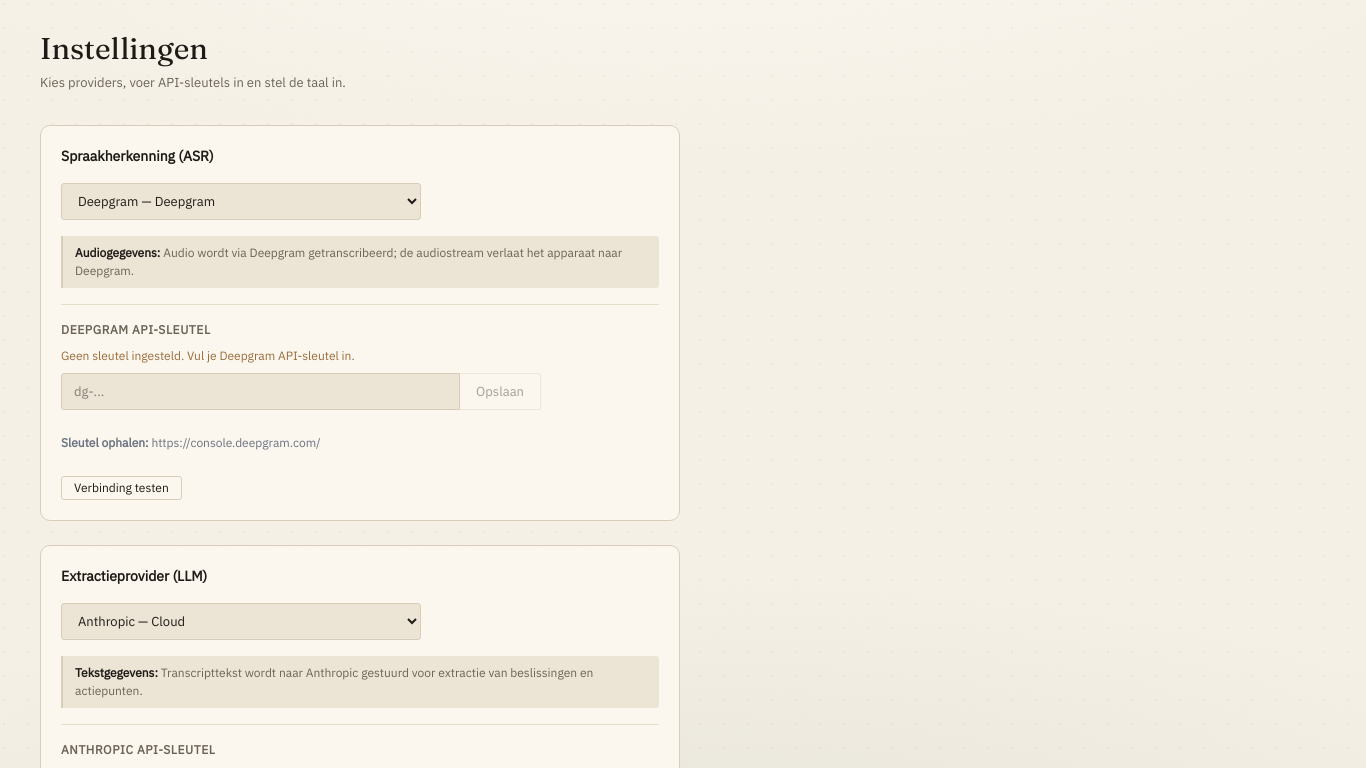
SettingsScreen — extraction provider presets (Phase 1.2) › prefills baseUrl and model when OpenAI is selected
Select "OpenAI — Cloud" in the dropdown with test id "extraction-provider-select" at x=241, y=622, box [61,603,421,640]
(page scrolled)
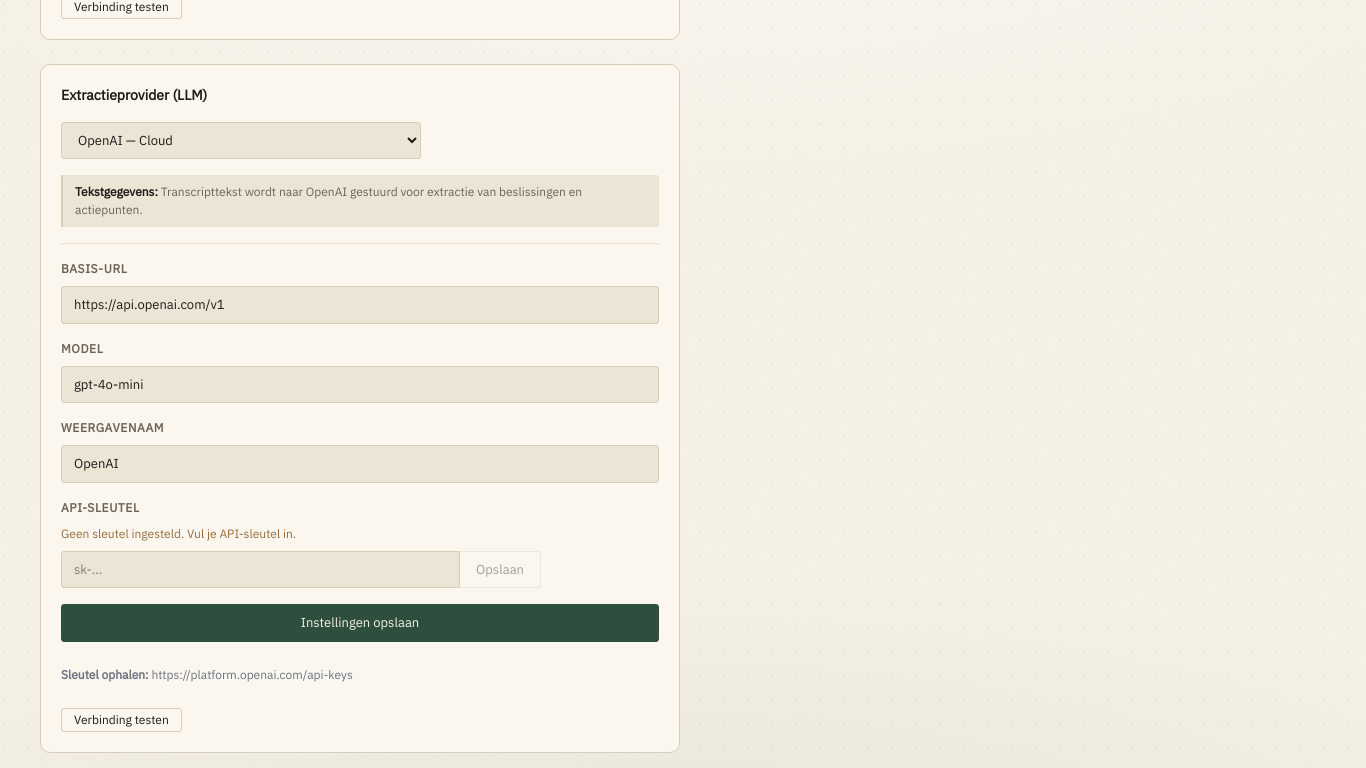
Result: the field with test id "custom-openai-base-url" holds "https://api.openai.com/v1" at [61,286,659,324]
Result: the field with test id "custom-openai-model" holds "gpt-4o-mini" at [61,366,659,403]
